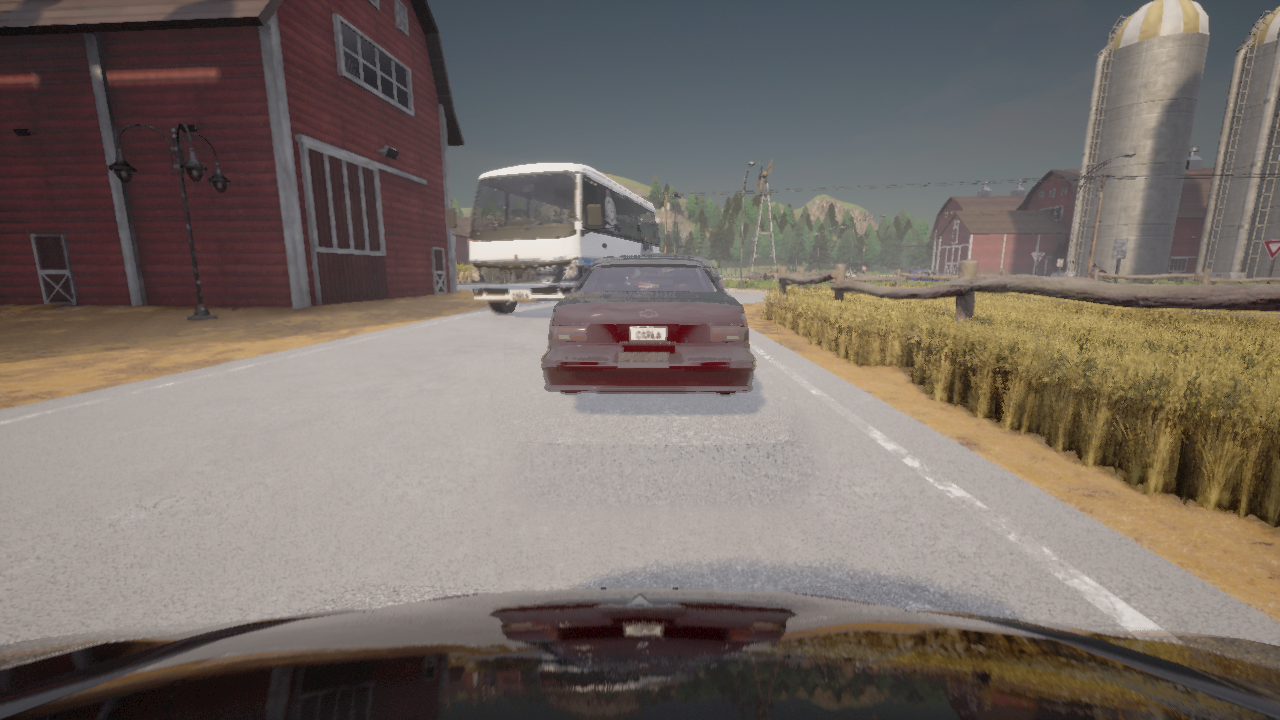cyclist: (0, 588, 1279, 719), (447, 162, 660, 314), (542, 256, 755, 394), (646, 254, 724, 287), (904, 270, 951, 282), (763, 270, 794, 278), (845, 269, 864, 277), (743, 272, 763, 279), (818, 272, 825, 274), (1108, 280, 1110, 283)
pedestrian: (1063, 260, 1075, 276), (1156, 273, 1160, 285), (1092, 263, 1097, 271)
